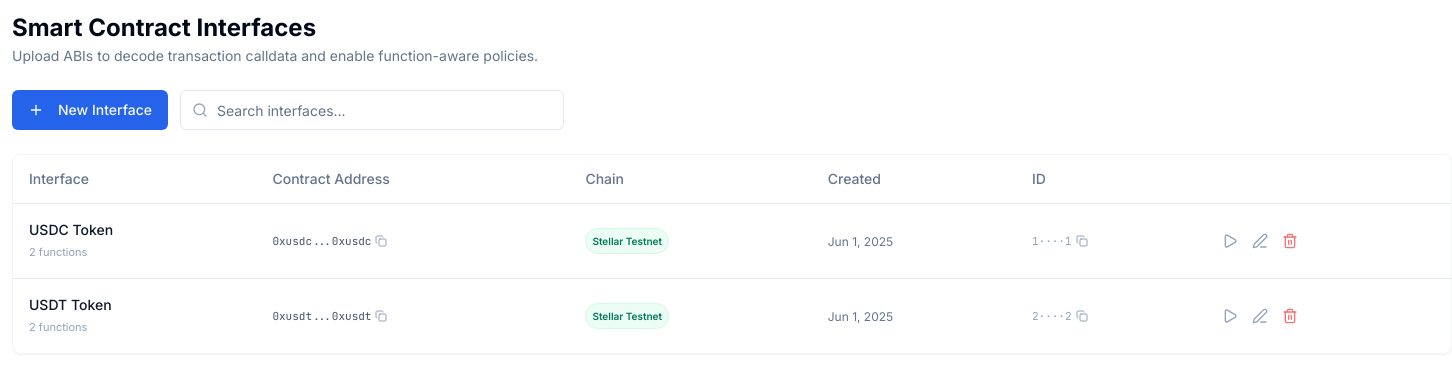
Test: Contract Interfaces Page › Search › filters by address
Expected: the text "USDC Token" is shown 2 times, [29,220,113,238]; [29,296,112,312]
Type "0xusdc" into the field with placeholder "Search interfaces...". click: (372, 110)
box: [180,90,564,130]
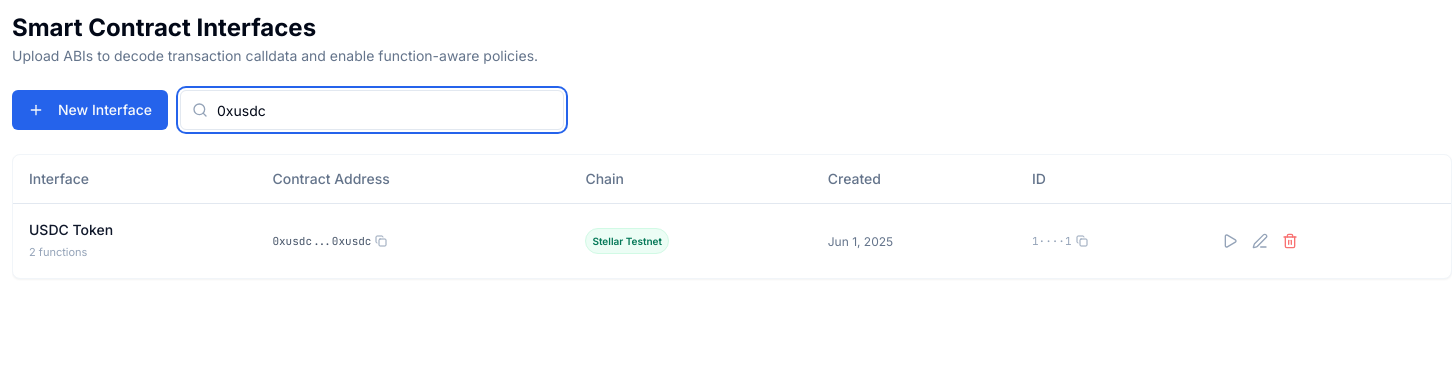
Expected: the text "USDC Token" is shown, [29,220,113,238]
Now the text "USDT Token" is gone
